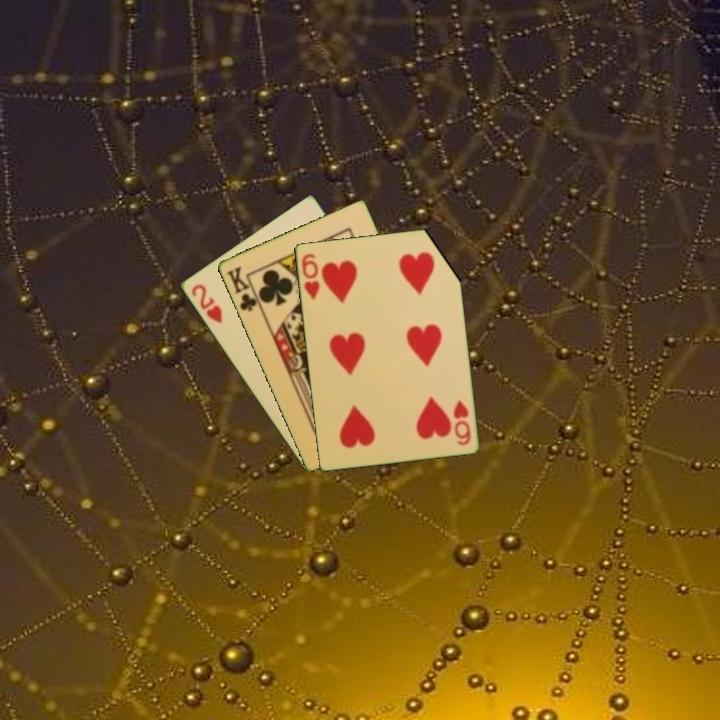2h: (187, 280, 225, 327)
6h: (298, 250, 322, 303), (449, 396, 473, 448)
Kc: (222, 263, 263, 314)
